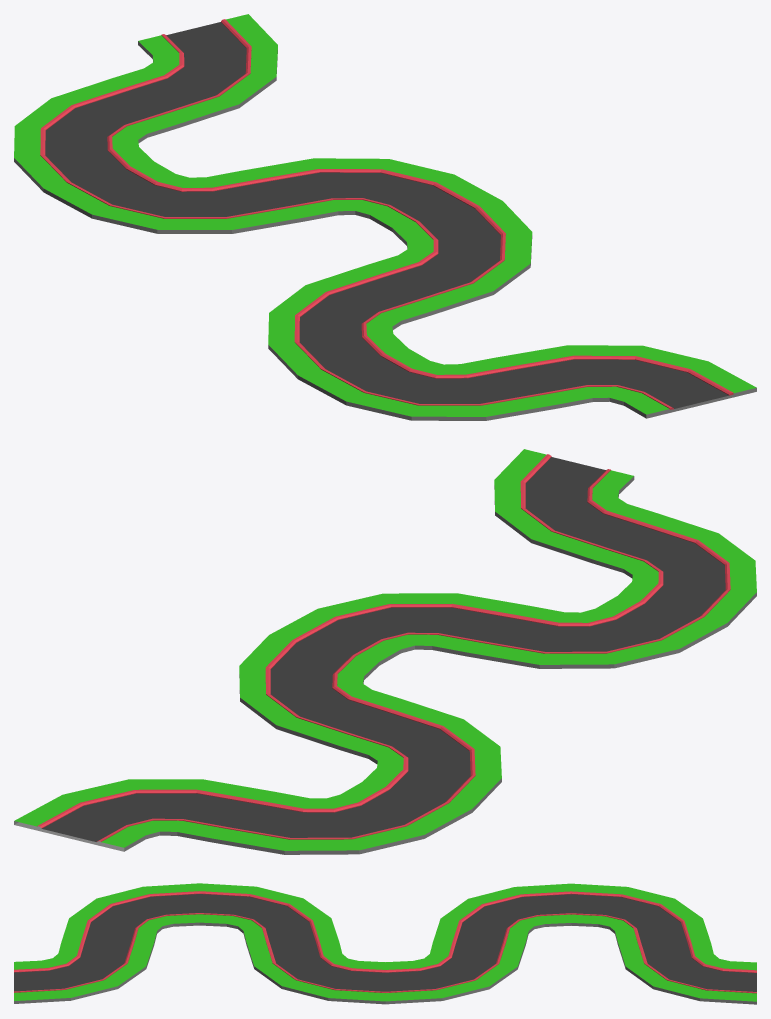
The model's file is Scurve.fbx.
The picture shows the model from 3 angles, top to bottom: view 1: azimuth 30°, elevation 25°; view 2: azimuth 150°, elevation 25°; view 3: azimuth 270°, elevation 25°; orthographic projection. The views are drawn at different scales.
Parts seen in each view (by area): view 1: Scurve; view 2: Scurve; view 3: Scurve.
Boxes of the visible parts, x1,y1,x2,y2 form: Scurve: [14, 14, 756, 420]; Scurve: [14, 449, 756, 854]; Scurve: [14, 883, 756, 1004].
Size of the model in its own units: 6028 by 80.76 by 15986.
